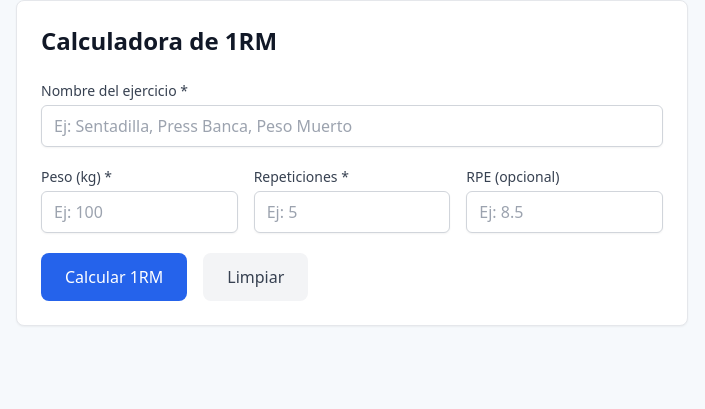
Test: OneRMCalculator › shows error when weight is not provided
Type "5" into the number field labelled "Repeticiones *" at point(352, 212), box x1=254 y1=191 x2=450 y2=233
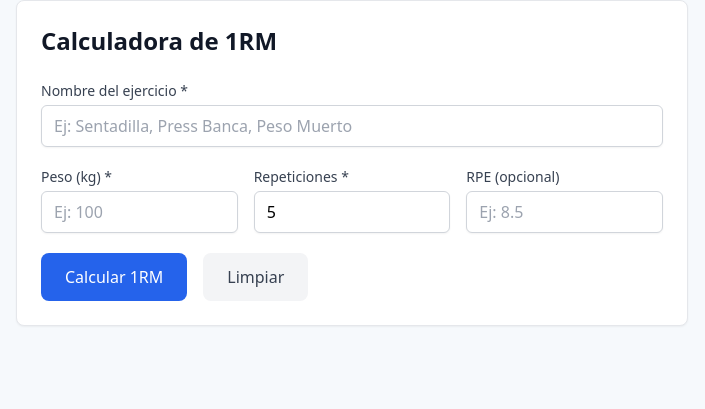
Submit the form with test id "onerm-form", box x1=41 y1=81 x2=663 y2=301
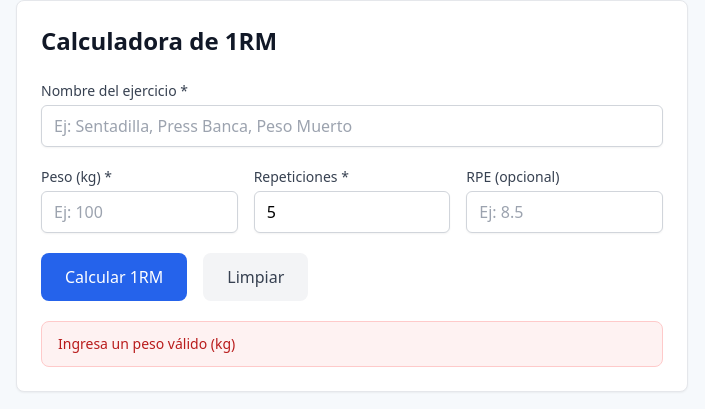
Check: the text "Ingresa un peso válido (kg)" is shown, box x1=41 y1=321 x2=663 y2=367
